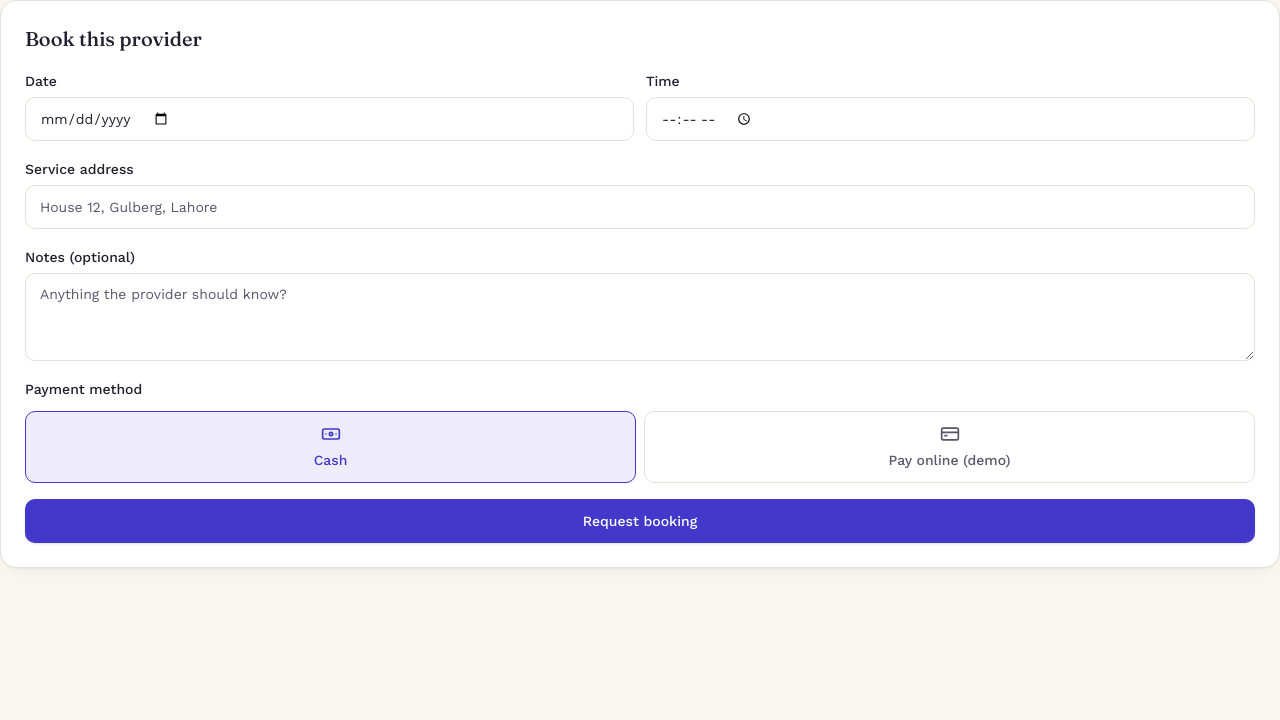
BookingForm › requires a service address before submitting
The image size is (1280, 720).
In the date field labelled "Date": x=330, y=119 [25,97,634,141], type "2026-09-01"
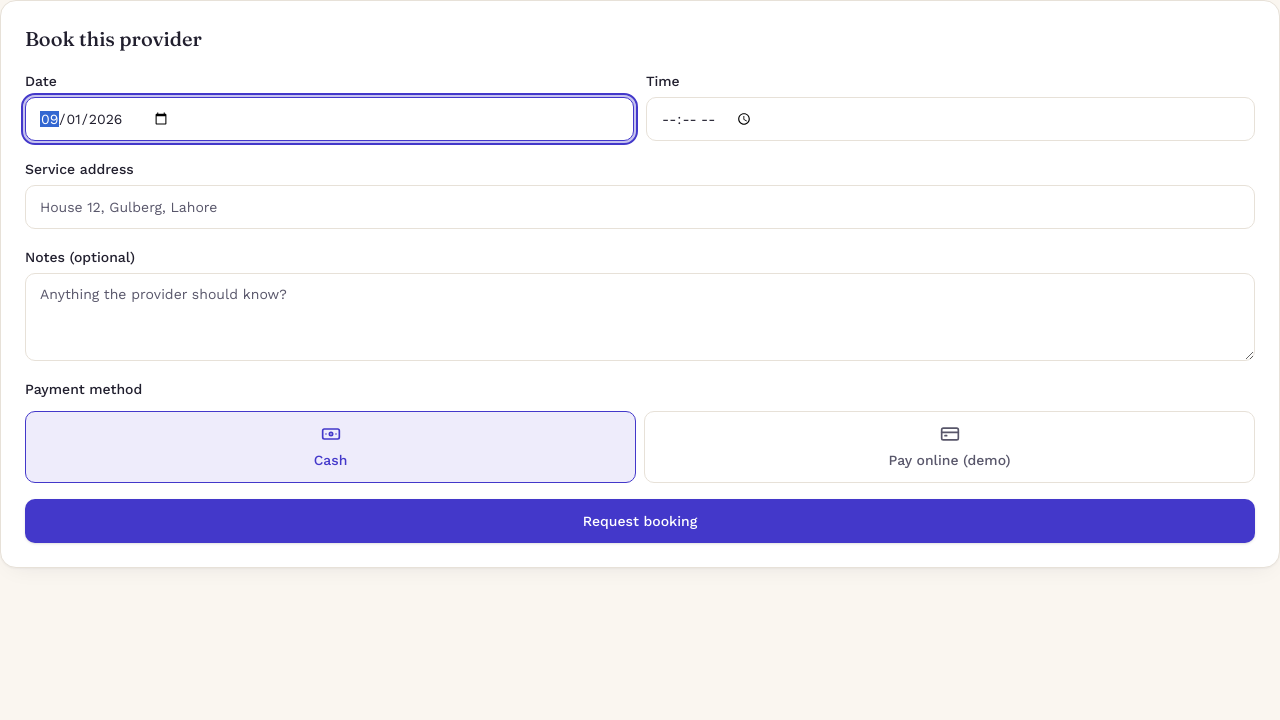
In the time field labelled "Time": x=950, y=119 [646,97,1255,141], type "10:00"
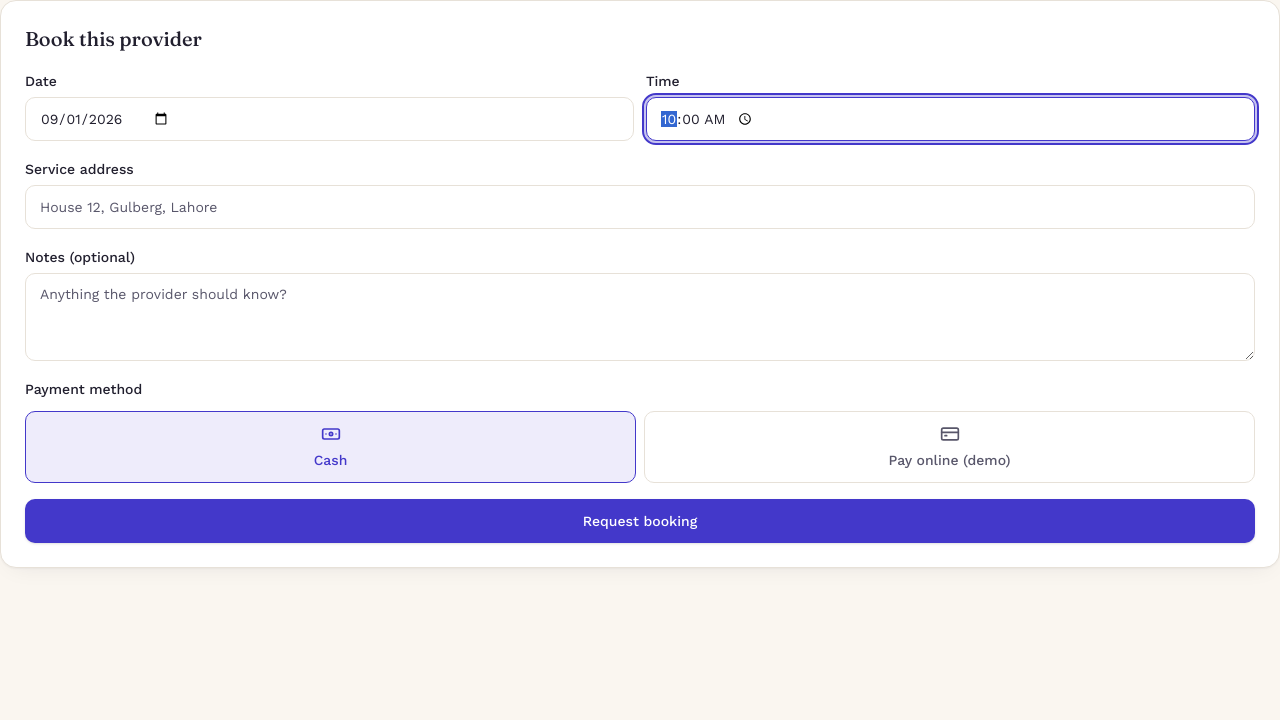
Click the button "Request booking": x=640, y=521 [25,499,1255,543]
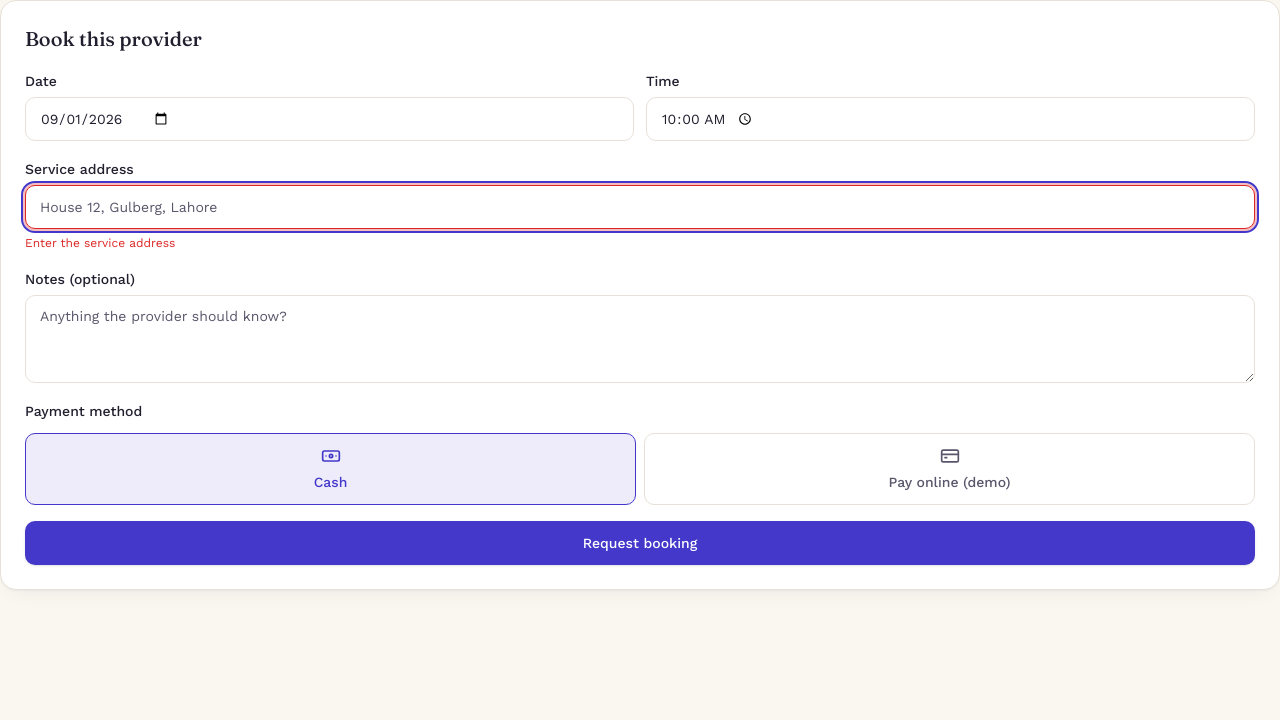
Check: the text "Enter the service address" is shown, box [25,236,175,250]
